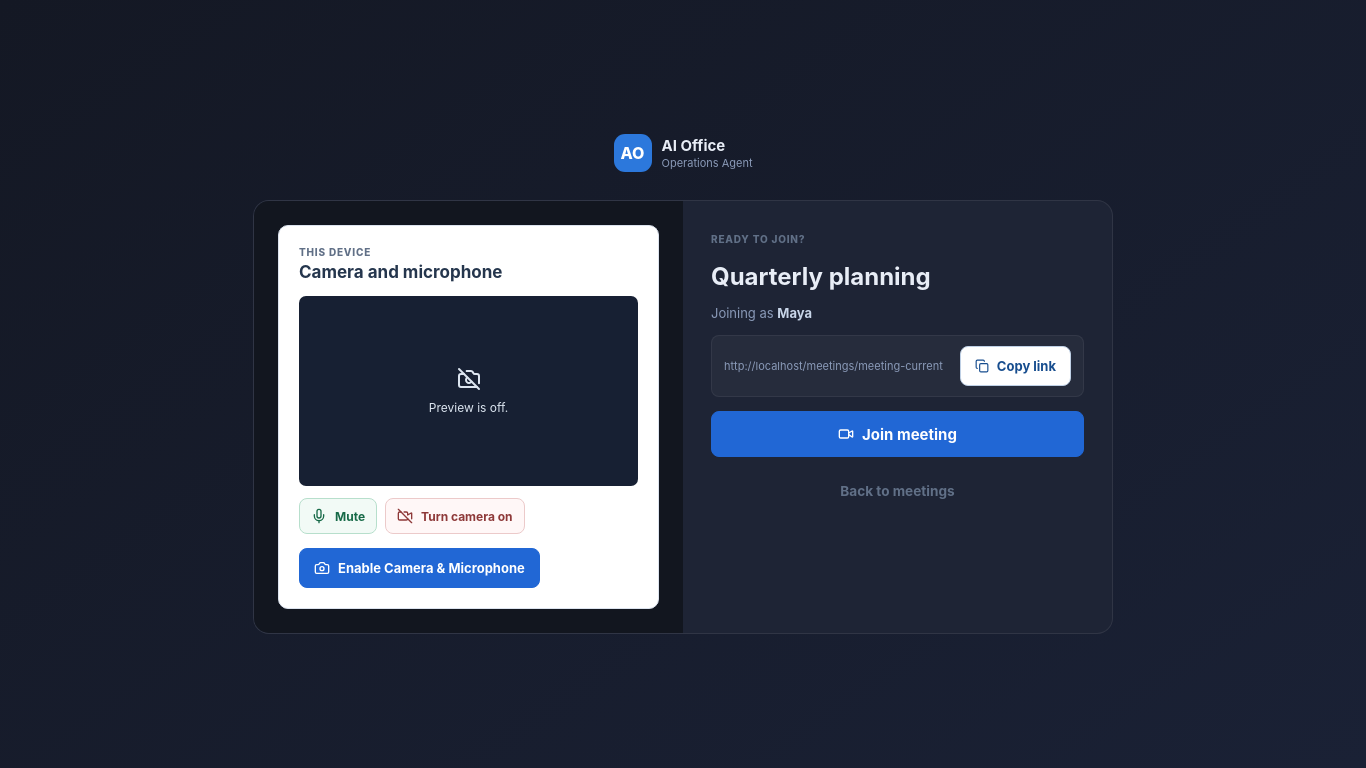
Test: MeetingRoomPage recording with a muted microphone › shows plain Recording when the microphone is on
Step 1. Click the button "Join meeting" → [898, 434], box left=711, top=412, right=1084, bottom=458
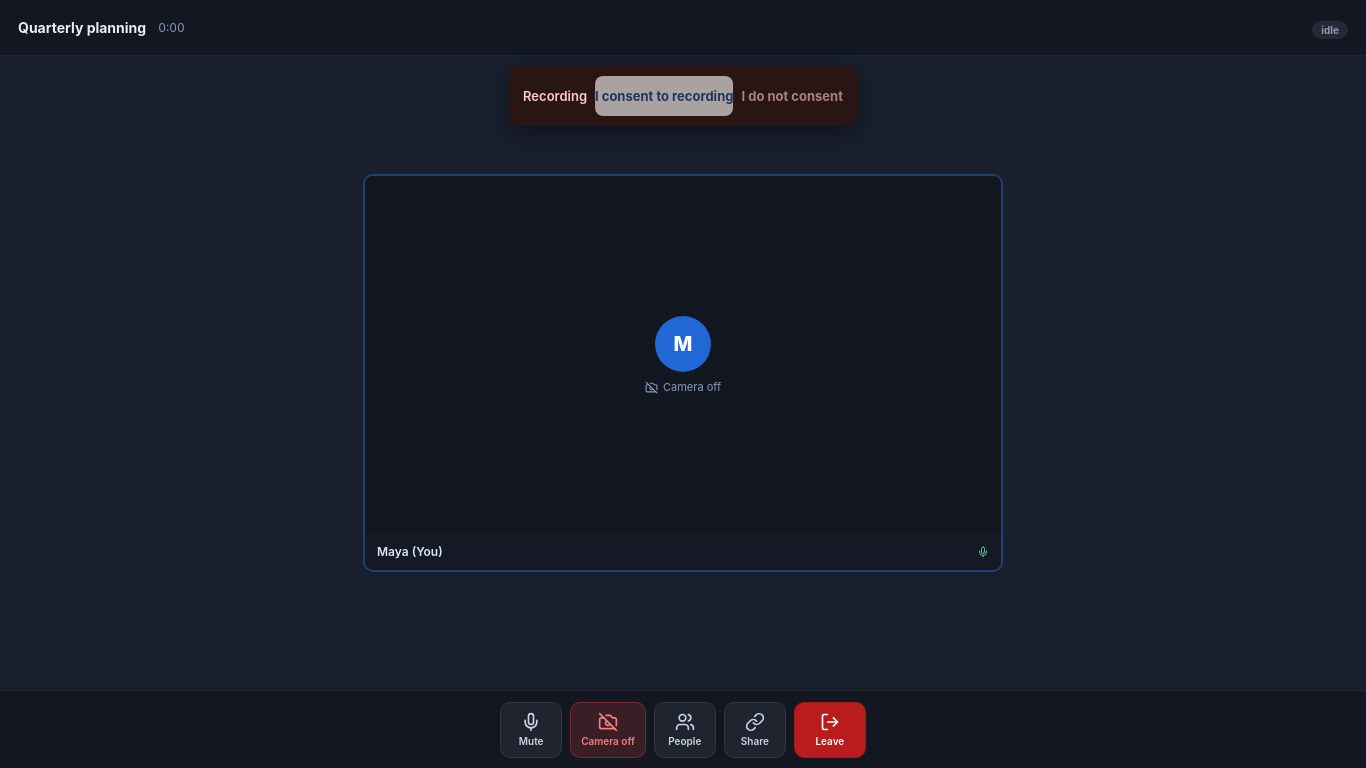
Check: the text "Recording" is shown, box left=523, top=88, right=587, bottom=104
